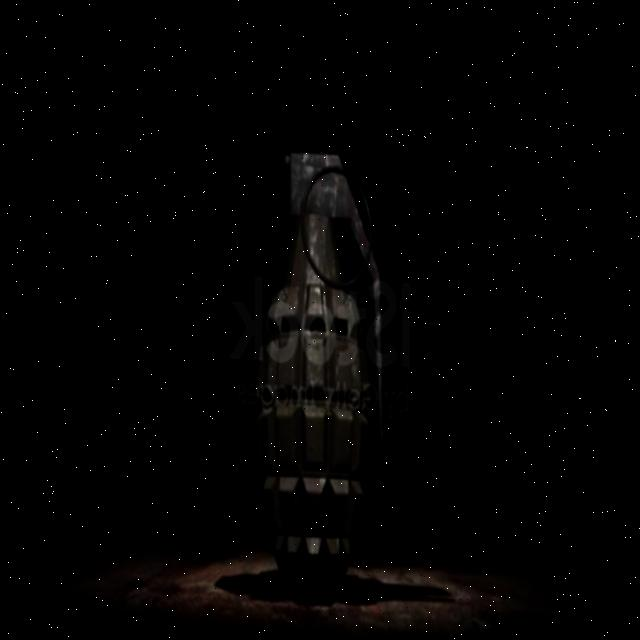grenade: (175, 96, 471, 623)
